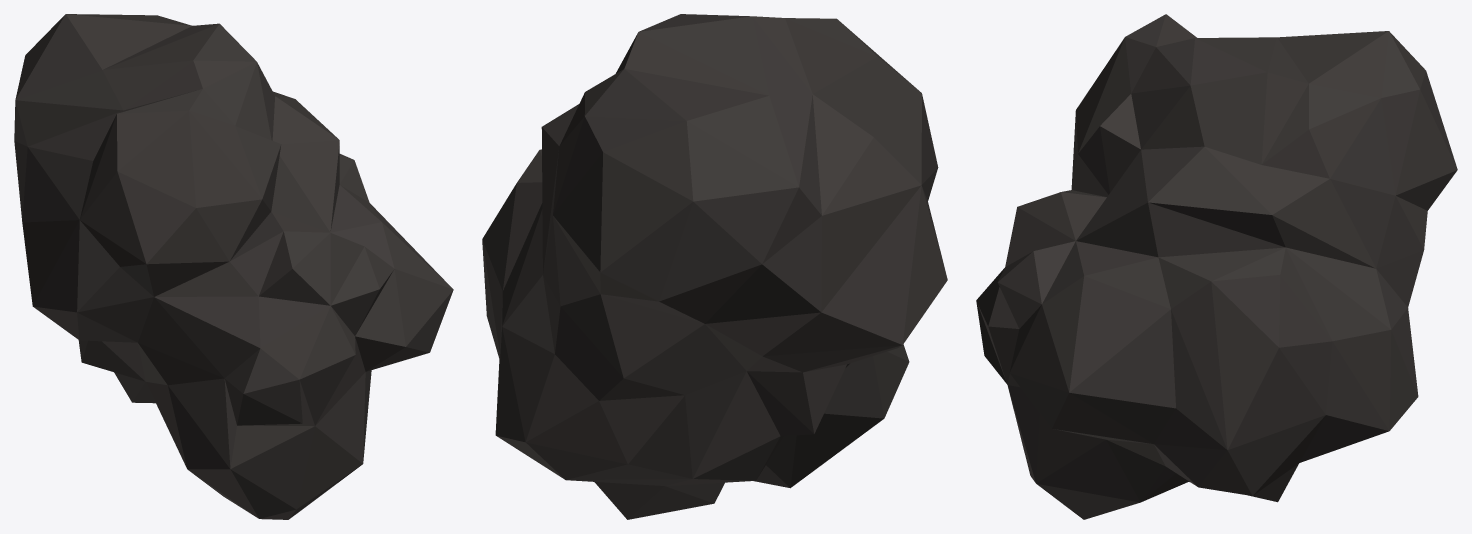
Rendered from Rock_8.fbx.
3 views of the same model, side by side, from view 1: azimuth 30°, elevation 25°; view 2: azimuth 150°, elevation 25°; view 3: azimuth 270°, elevation 25° (orthographic). The views are drawn at different scales.
Visible parts, largest first — view 1: Group64189; view 2: Group64189; view 3: Group64189.
Part boxes in pixels (x1,y1,x2,y2): Group64189: [14, 14, 453, 519]; Group64189: [482, 14, 947, 519]; Group64189: [976, 14, 1457, 519].
Bounding box in the file's own units: 3.54 × 4.2 × 3.99.
